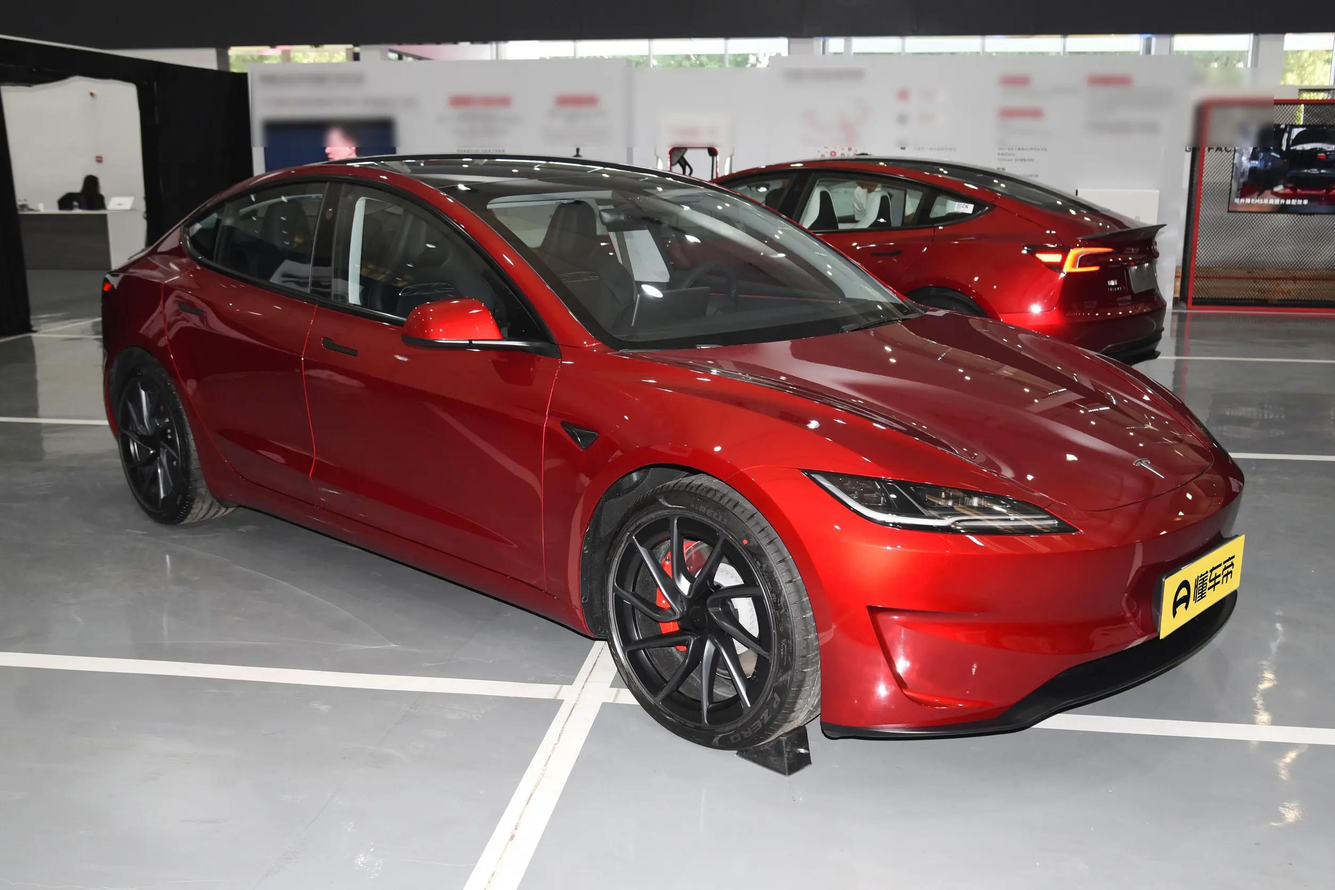Tesla: (1133, 457, 1165, 479)
